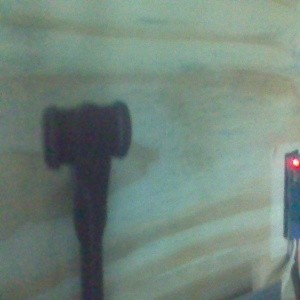palu: (39, 101, 132, 300)
